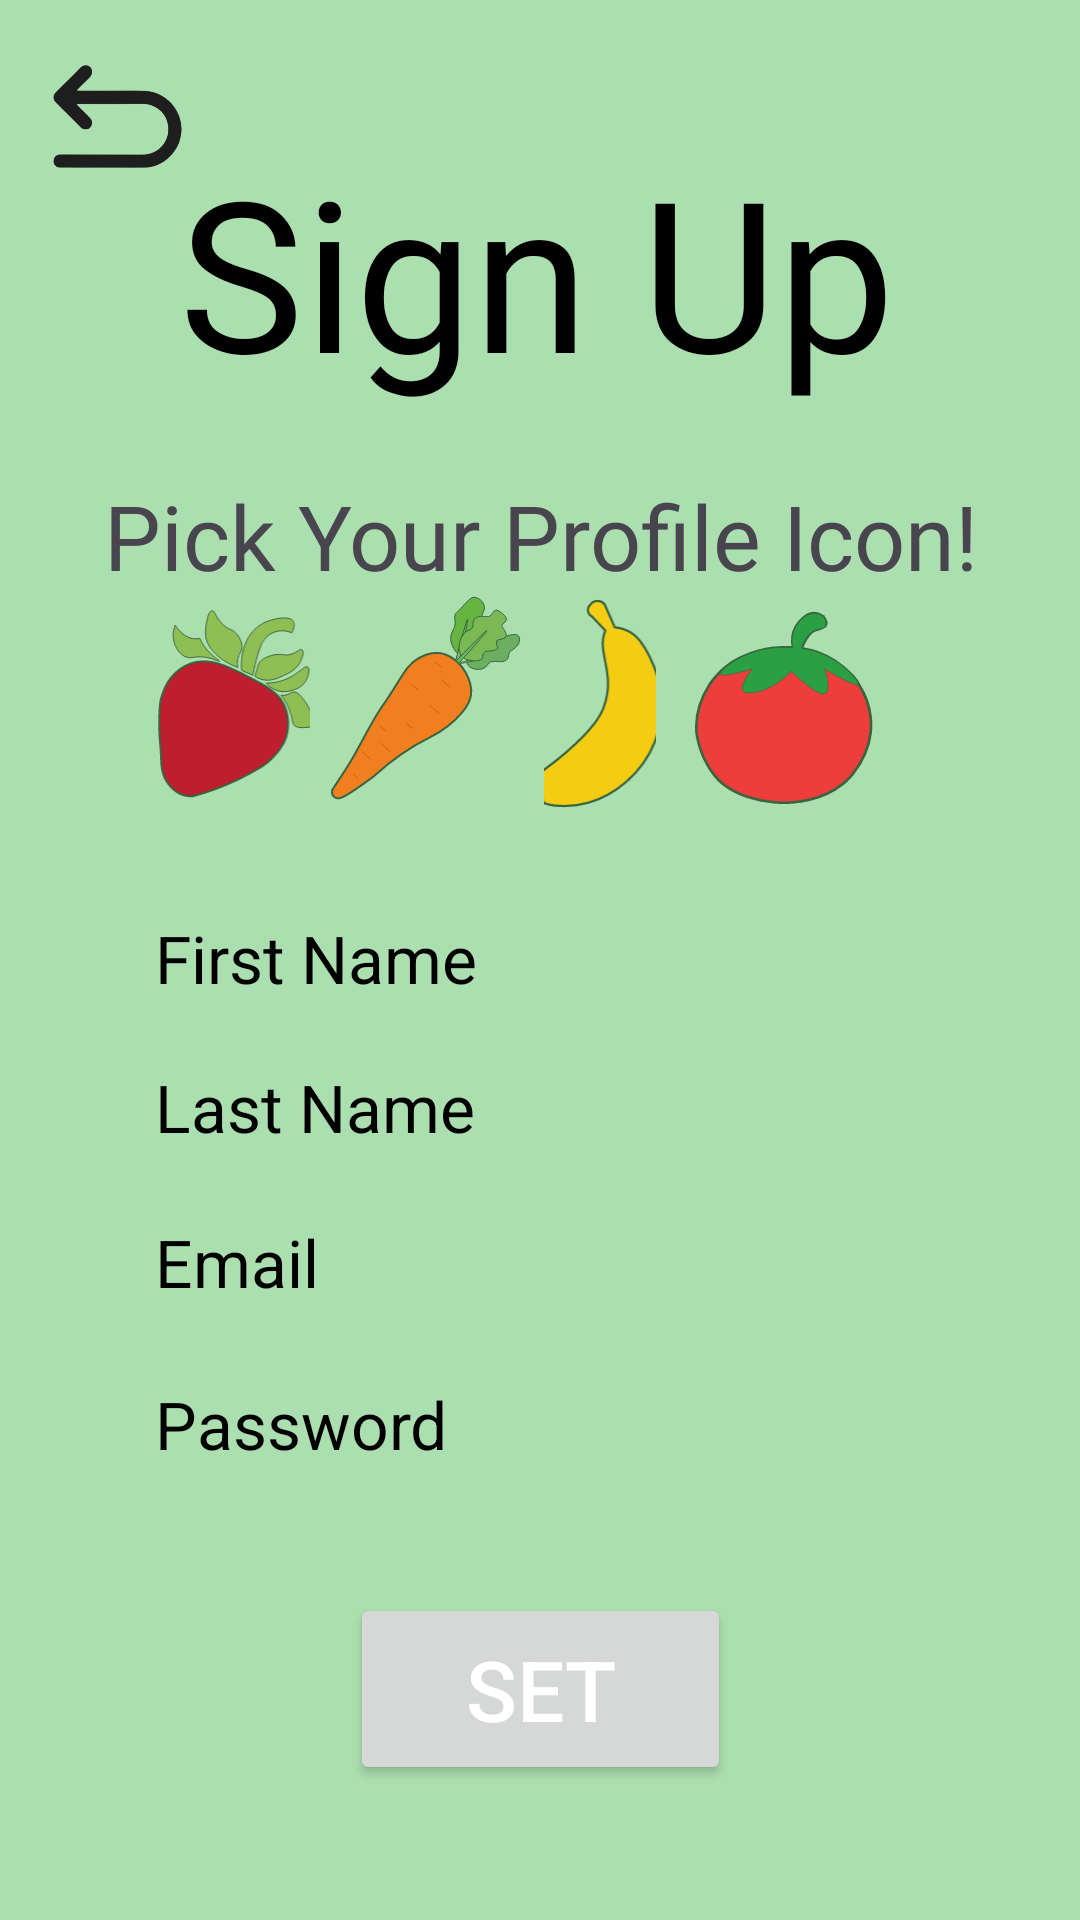

Icon click points for this 1080w x 1920h phone screenshot, format (x=x, y=y):
back: (x=117, y=116)
Banana Icon: (x=600, y=704)
carrot: (x=425, y=698)
Strawberry Icon: (x=234, y=704)
Tomato Icon: (x=784, y=707)
